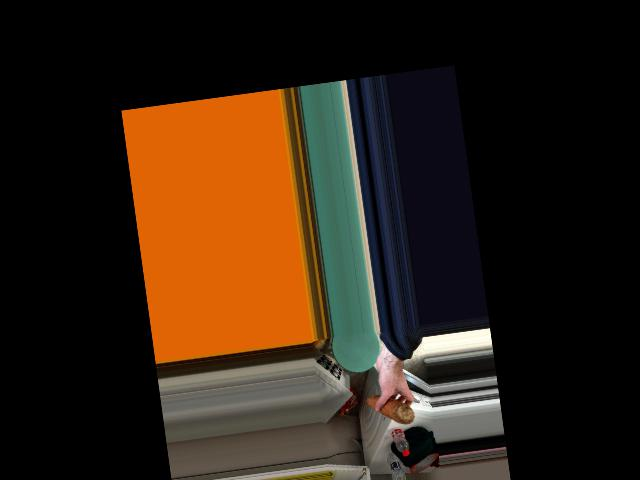sweet_potato: (365, 392, 415, 430)
